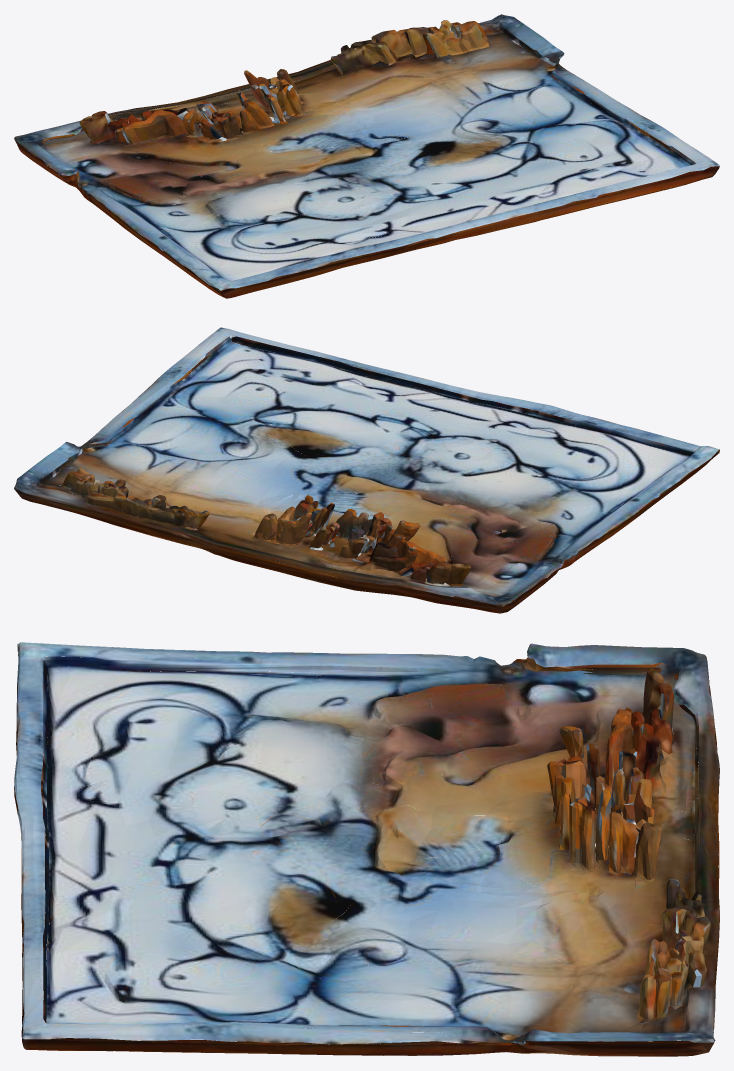
Rendered from wt-outpost-trench.glb.
3 views of the same model, one above another, from view 1: azimuth 30°, elevation 25°; view 2: azimuth 150°, elevation 25°; view 3: azimuth 270°, elevation 25° (orthographic). The views are drawn at different scales.
Visible parts, largest first — view 1: tmpm6ped6m9.ply; view 2: tmpm6ped6m9.ply; view 3: tmpm6ped6m9.ply.
Part boxes in pixels (<box>): tmpm6ped6m9.ply: <box>14,14,719,298</box>; tmpm6ped6m9.ply: <box>14,327,719,613</box>; tmpm6ped6m9.ply: <box>14,642,719,1056</box>.
Bounding box in the file's own units: 5 × 0.4804 × 3.75.
Materials: 1 (1 with a texture image).
